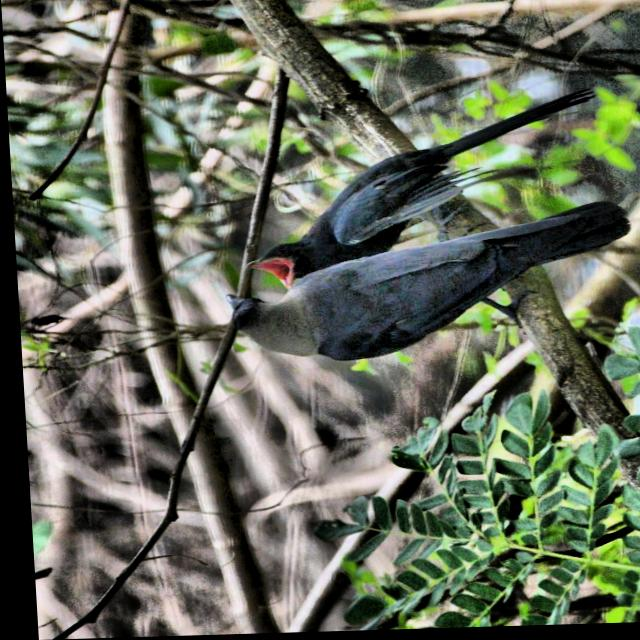crow: (200, 77, 640, 392)
